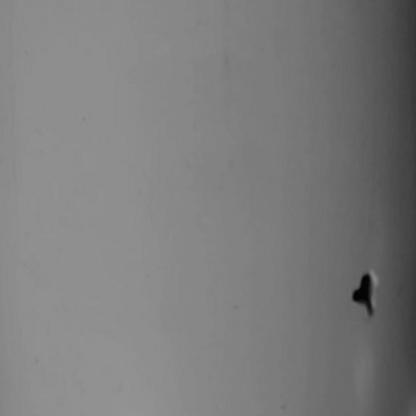kongdong: (341, 263, 381, 321)
